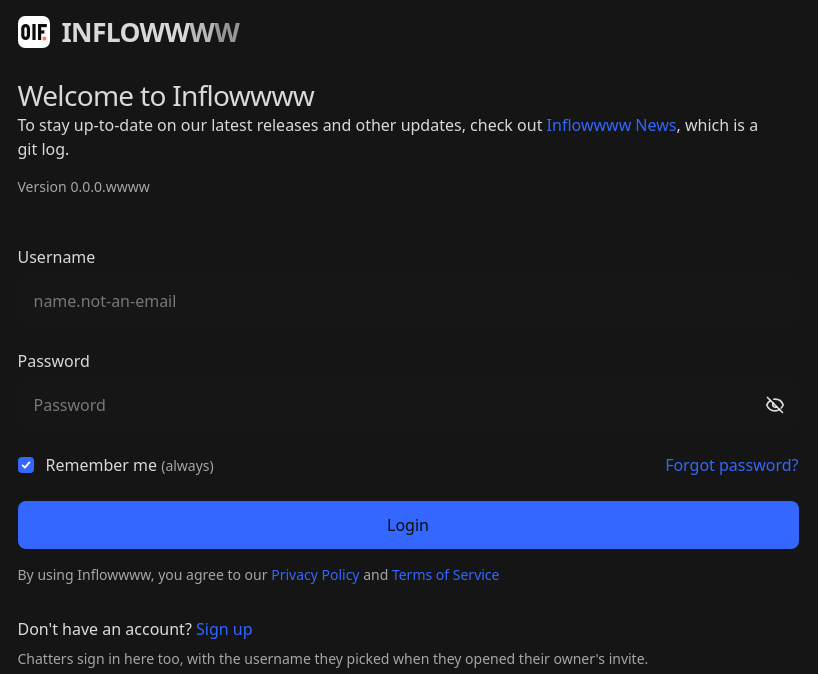
Landing typed sign-in refusals › a 2FA challenge swaps the password form for the code step
Type "ann" into the field labelled "Username" at (408, 301), box [18,277,798,325]
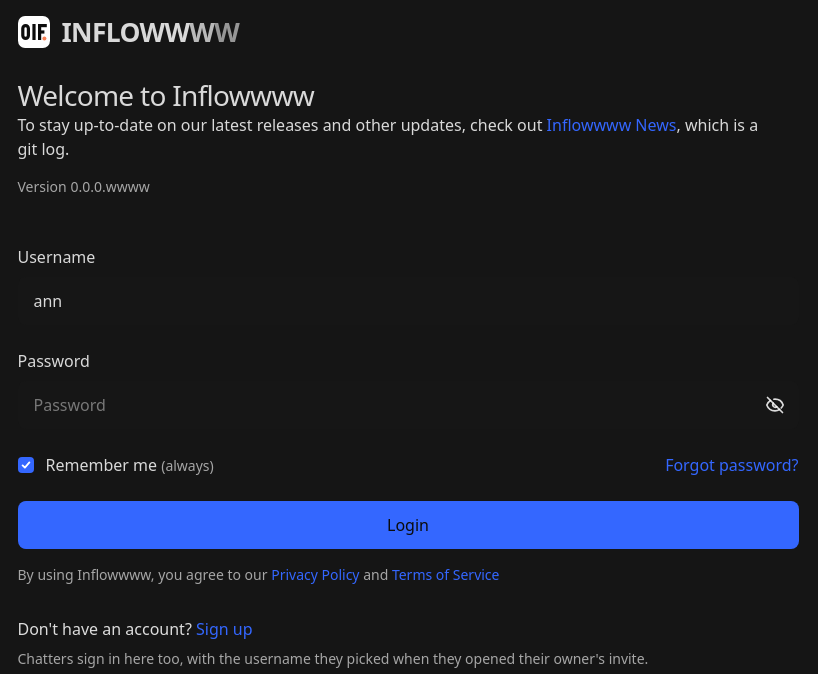
Type "secret-pw" into the password field with placeholder "Password" at (408, 405), box [18,381,798,429]
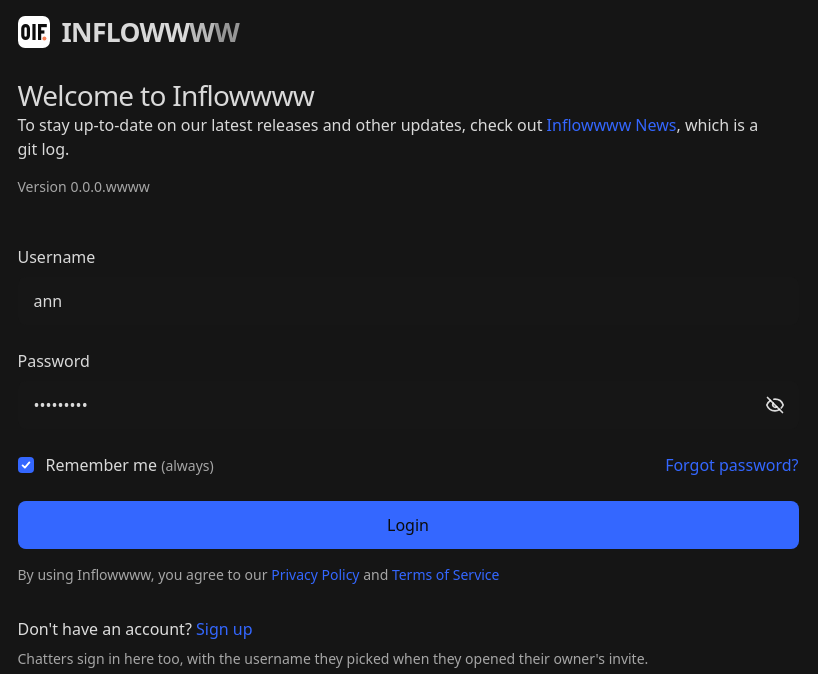
Submit the form, box [18,245,798,585]
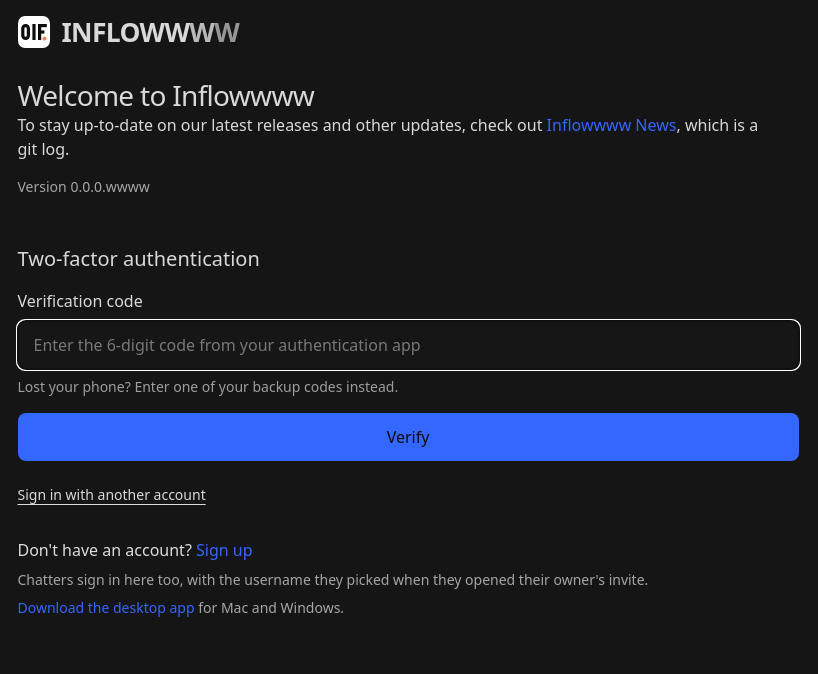
Result: the field labelled "Verification code" is shown at [18,321,798,369]
Result: the password field is gone
